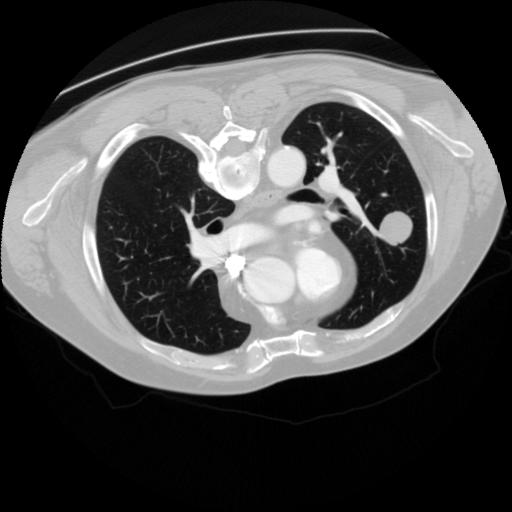nodule: (372, 207, 419, 254)
